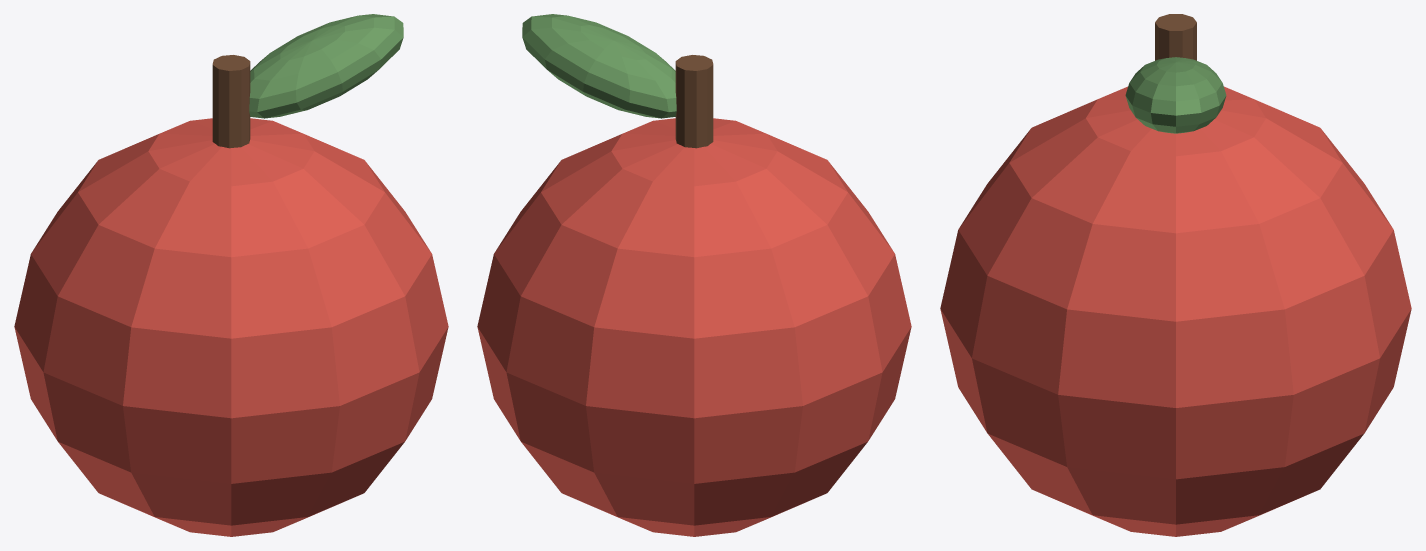
Rendered from apple.glb.
3 views of the same model, side by side, from view 1: azimuth 30°, elevation 25°; view 2: azimuth 150°, elevation 25°; view 3: azimuth 270°, elevation 25° (orthographic). The views are drawn at different scales.
Visible parts, largest first — view 1: Icon_Sphere.001, Icon_Sphere, Icon_Cylinder; view 2: Icon_Sphere.001, Icon_Sphere, Icon_Cylinder; view 3: Icon_Sphere.001, Icon_Sphere, Icon_Cylinder.
Part boxes in pixels (x1,y1,x2,y2): Icon_Sphere.001: [14, 118, 448, 536]; Icon_Sphere: [249, 14, 403, 118]; Icon_Cylinder: [212, 55, 250, 148]; Icon_Sphere.001: [477, 118, 911, 536]; Icon_Sphere: [522, 14, 676, 118]; Icon_Cylinder: [675, 55, 713, 148]; Icon_Sphere.001: [940, 86, 1411, 536]; Icon_Sphere: [1125, 57, 1226, 133]; Icon_Cylinder: [1155, 14, 1196, 60].
Bounding box in the file's own units: 0.56 × 0.6601 × 0.56.
